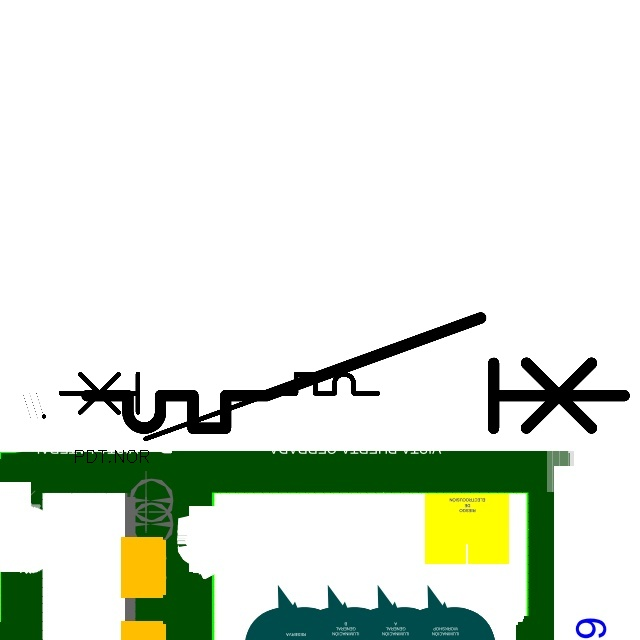interruptor_termomagnetico: (73, 304, 638, 442), (52, 366, 385, 447)
